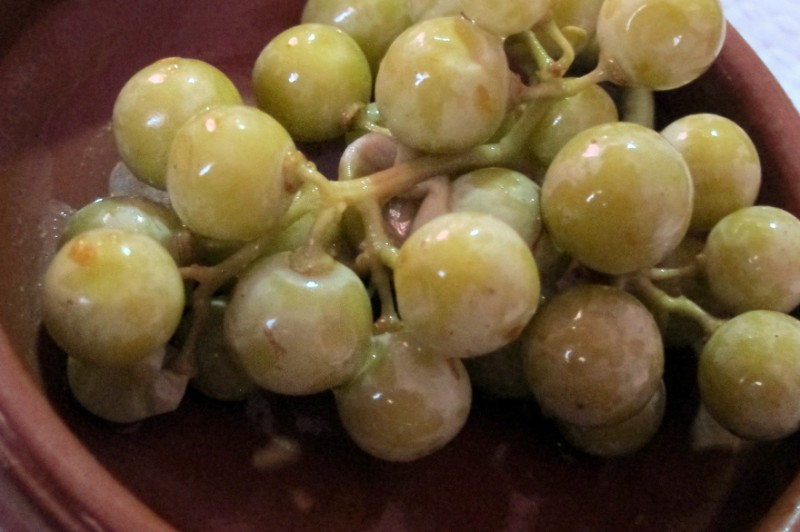Green grapes: (71, 8, 800, 453)
